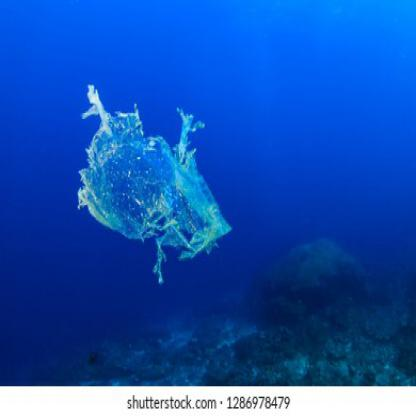waste: (77, 85, 234, 286)
